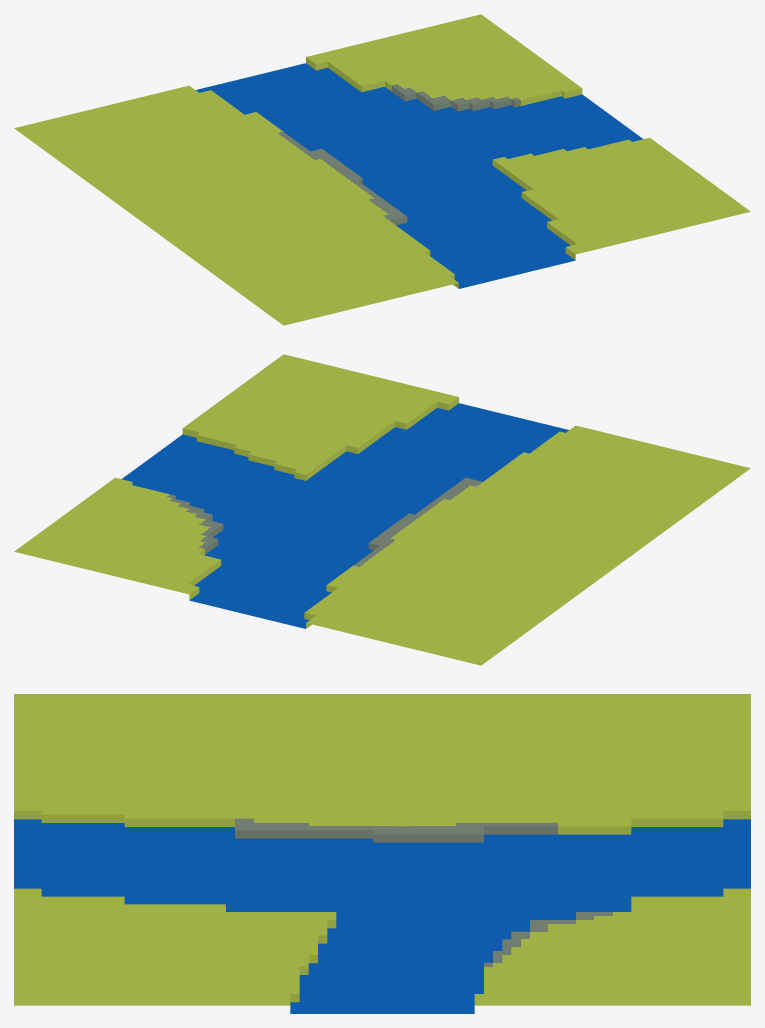
The model's file is MMMMR926(2).glb.
The picture shows the model from 3 angles, top to bottom: view 1: azimuth 30°, elevation 25°; view 2: azimuth 150°, elevation 25°; view 3: azimuth 270°, elevation 25°; orthographic projection. The views are drawn at different scales.
Visible parts, largest first — view 1: model_0.045; view 2: model_0.045; view 3: model_0.045.
Part boxes in pixels (box(x1,y1,x2,y2)): model_0.045: box(14, 14, 750, 325); model_0.045: box(14, 354, 750, 665); model_0.045: box(14, 694, 750, 1013).
Bounding box in the file's own units: 80 × 1 × 80.
Materials: 1 (1 with a texture image).
